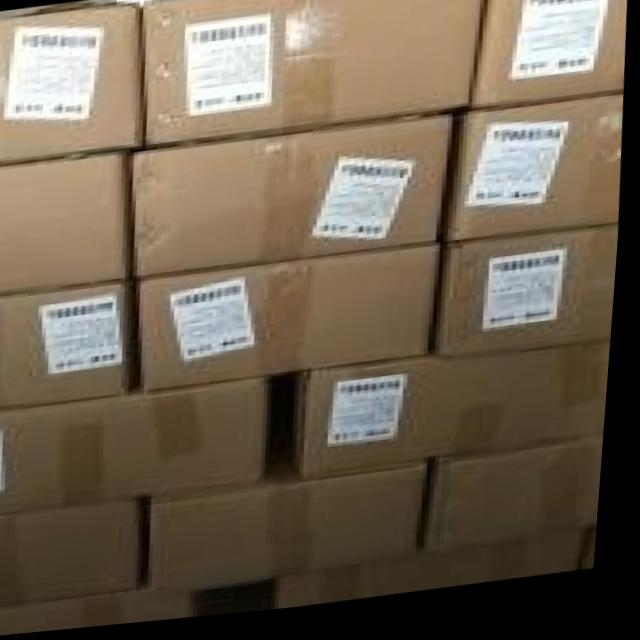box: (144, 0, 489, 151), (132, 120, 455, 279), (141, 251, 448, 394), (295, 356, 616, 485), (0, 382, 278, 514), (153, 467, 435, 593), (448, 104, 625, 251), (280, 538, 600, 616), (437, 237, 622, 366), (0, 4, 144, 164), (429, 447, 611, 561), (0, 155, 137, 295), (470, 0, 628, 118), (0, 285, 146, 410), (0, 500, 151, 609), (0, 587, 204, 637), (587, 537, 606, 582)
